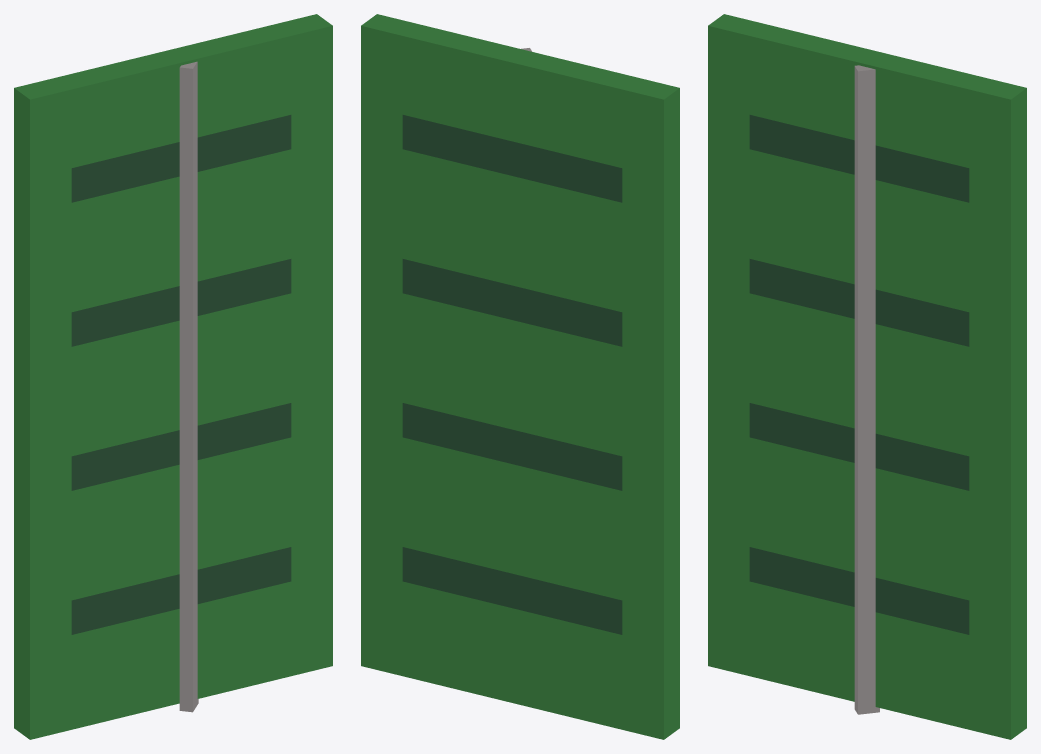
File: cargo-shipping-door_R_green.glb
3 views of the same model, side by side, from view 1: azimuth 30°, elevation 25°; view 2: azimuth 150°, elevation 25°; view 3: azimuth 330°, elevation 25° (orthographic).
Parts seen in each view (by area): view 1: cargo-shipping-door_R_green; view 2: cargo-shipping-door_R_green; view 3: cargo-shipping-door_R_green.
Boxes of the visible parts, bbox=[...] form: cargo-shipping-door_R_green: bbox=[14, 14, 332, 739]; cargo-shipping-door_R_green: bbox=[361, 14, 679, 739]; cargo-shipping-door_R_green: bbox=[708, 14, 1026, 739].
Bounding box in the file's own units: 1.09 × 2.22 × 0.1398.
1 material, 1 textured.
